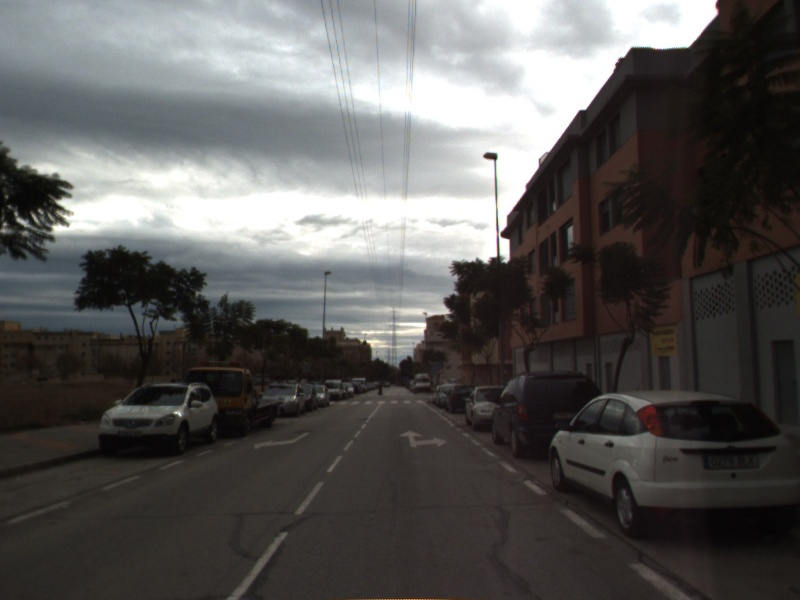STRAIGHT_RIGHT: (396, 428, 449, 449)
